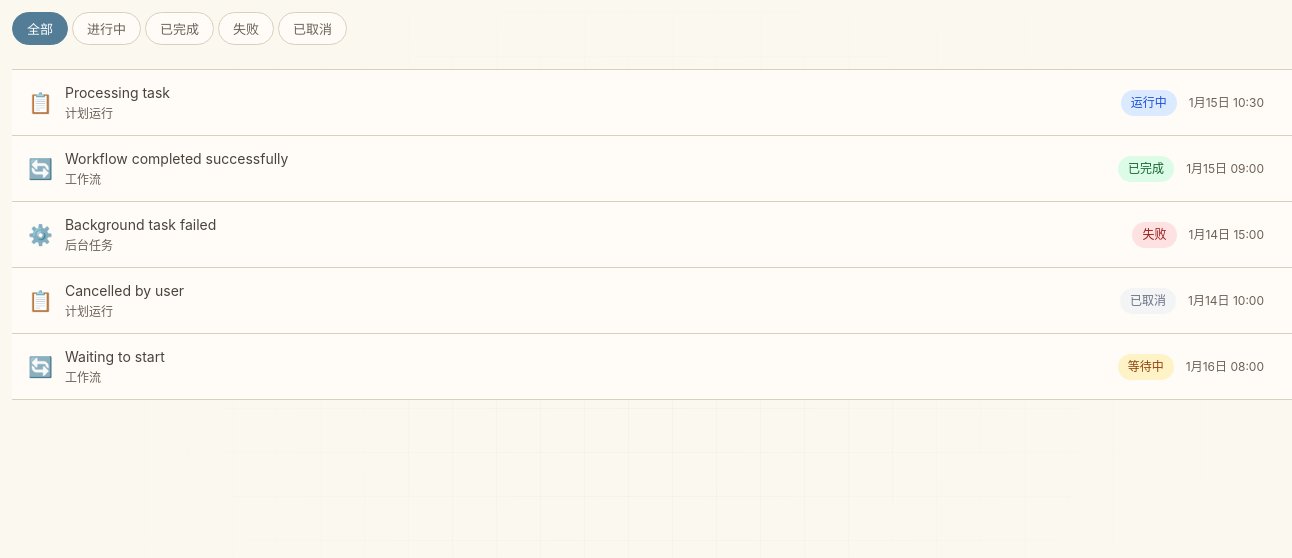
Test: RunList › filters by completed status
This screenshot has width=1292, height=558.
Click the tab with test id "filter-completed".
click(180, 28)  # box [145,12,214,45]
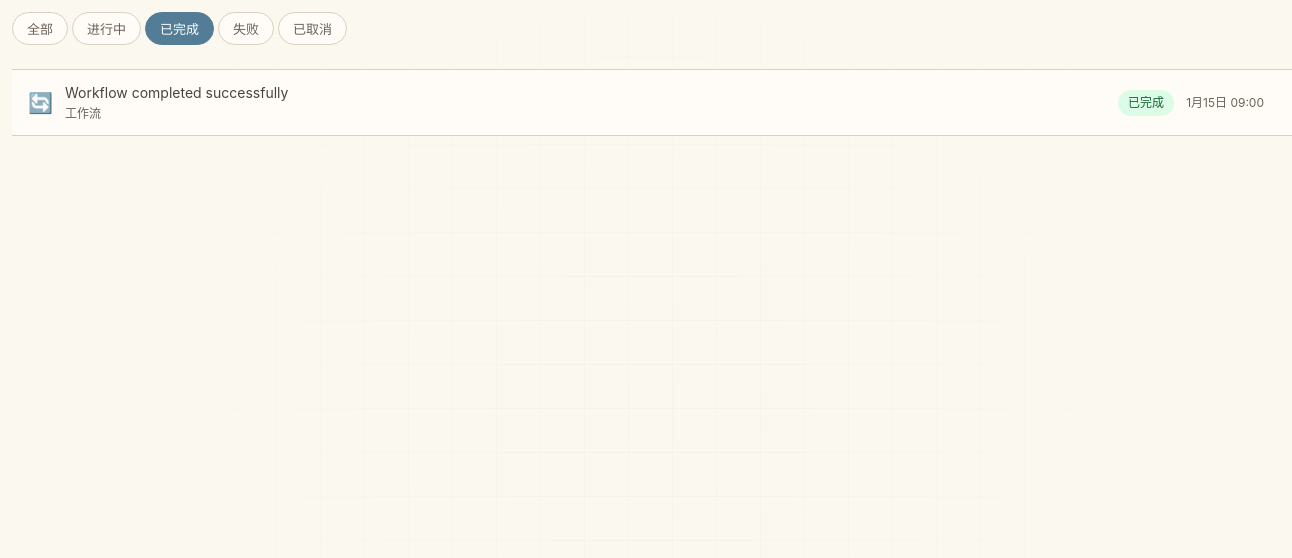
Expected: the list item with test id "run-row-run-2" is shown, [12,69,1291,136]
Result: the list item with test id "run-row-run-1" is gone
